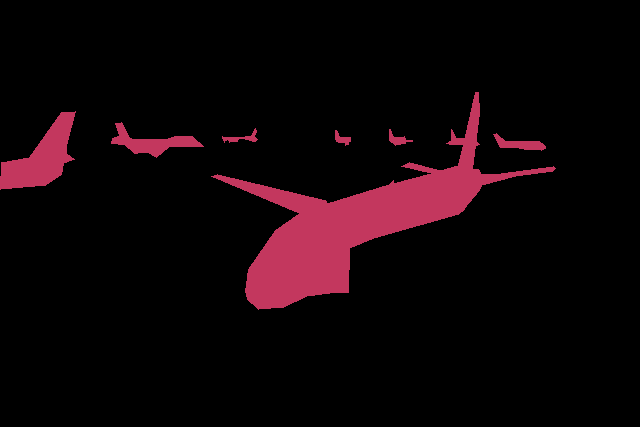Airplane: (211, 92, 555, 310), (0, 111, 75, 190), (111, 122, 204, 157), (493, 133, 545, 150), (446, 129, 479, 146), (222, 128, 258, 143), (389, 129, 412, 145), (335, 130, 351, 145)
